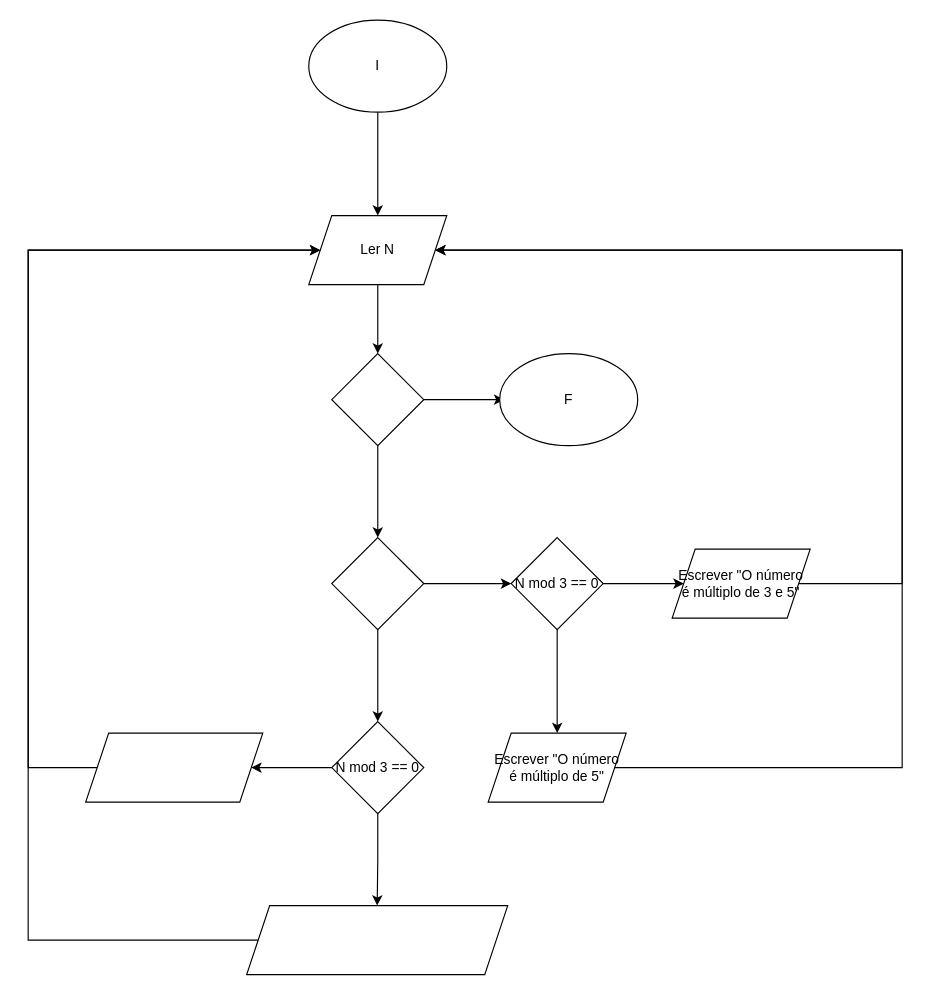
Image size: 932x995. Some labels were removed from this diagram. Each missing label, with the centre of its shape:
Escrever "O número não é múltiplo de 3 e de 5": the point at 377,939
Escrever "O número é múltiplo de 3": the point at 174,767
N == 0: the point at 377,399
N mod 5 == 0: the point at 377,583
